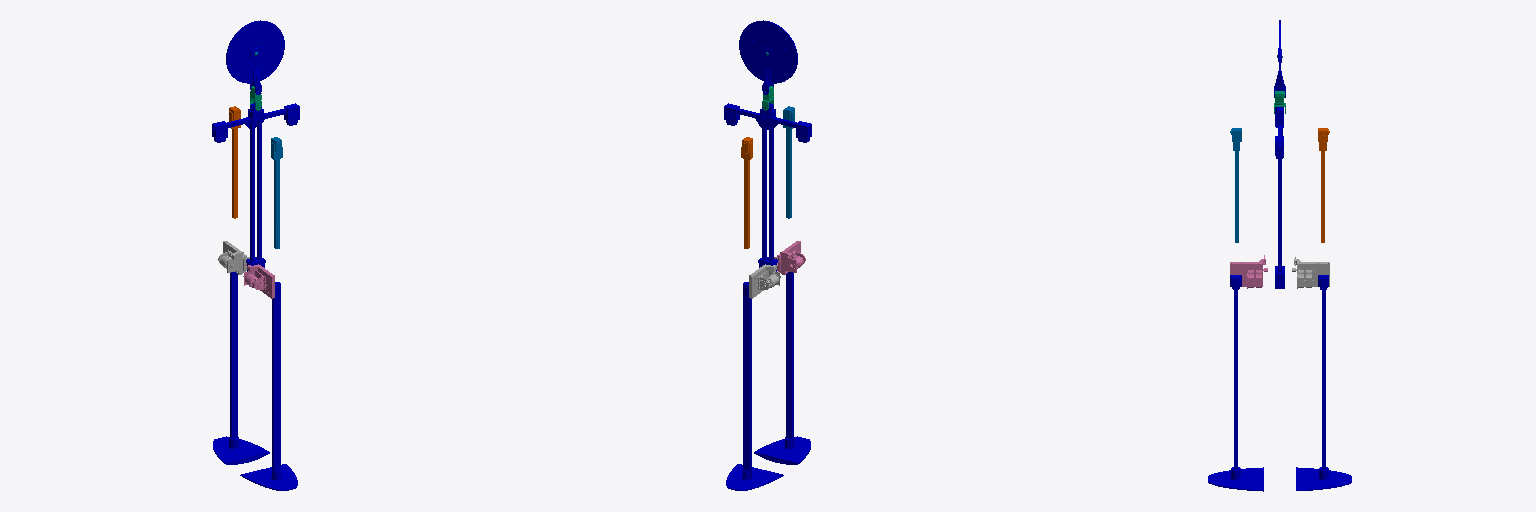
robot.urdf — robot:
<?xml version="1.0" ?>
<!-- Marcheur passif -->
<!-- This file comes from Aldebaran romeo.urdf file with slight modifications:               -->
<!--             - rename joint_base by waist (joint base name in sot is already joint_base) -->
<!--             - waist joint goes from base_link to body (and not base_link)                   -->
<!--             - inverse trunkYaw joint direction (now from body to base_link)                 -->
<!-- Aldebaran file comes from                                                               --> 

<robot name="robot"  xmlns:xacro="http://www.ros.org/wiki/xacro">

   <material name="blue">
      <color rgba="0 0 0.8 1"/>
   </material>

   <link name="world"/>

  <joint name="fixed" type="fixed">
    <parent link="world"/>
    <child link="base_link"/>
</joint>


<!-- virtual link with a virtual joint to make the root link -->
  <!--link name="virtual_link"/>
  <joint name="virtual_joint" type="fixed">
    <parent link="virtual_link"/>
    <child link="base_link"/>
  </joint-->



  <link name="base_link">
    <inertial>
      <mass value="1.635"/>
      <inertia ixx="86e-03" ixy="-39.84e-6" ixz="3.991e-4" iyy="83e-3" iyz="-38.29e-6" izz="4e-3"/>
      <origin rpy="0 0 0" xyz="0 0 0.17346"/>
    </inertial>
    <visual>
      <geometry>
        <mesh filename="package://yoyoman01_sot_description/meshes/BUSTE.stl" scale="0.001 0.001 0.001"/>
      </geometry>
    <origin rpy="0 0 -1.57075" xyz="0 0 0"/>
    <material name="blue"/>
    </visual>
    <collision>
      <geometry>
        <mesh filename="package://yoyoman01_sot_description/meshes/BUSTE.stl" scale="0.001 0.001 0.001"/>
      </geometry>
    <origin rpy="0 0 -1.57075" xyz="0 0 0"/>
    </collision>
  </link>




  <joint name="Neck" type="revolute">
    <parent link="base_link"/>
    <child link="NeckLink"/>
    <origin rpy="0 0 0" xyz="0 0 0.675"/>
    <axis xyz="0 1 0"/>
    <limit effort="1.5" lower="-0.5" upper="0.5" velocity="6.175333333"/>
  </joint>
  <link name="NeckLink">
    <inertial>
      <mass value="0.061"/>
      <inertia ixx="2.95e-5" ixy="-7.67e-9" ixz="-3.61e-9" iyy="2.53e-5" iyz="-3.05e-6" izz="1.09e-5"/>
      <origin rpy="0 0 0" xyz="0 0 0.03"/>
    </inertial>
    <visual>
      <geometry>
        <mesh filename="package://yoyoman01_sot_description/meshes/COU.stl" scale="0.001 0.001 0.001"/>
      </geometry>
    <origin rpy="0 0 1.57075" xyz="0 0 0"/>
    </visual>
    <collision>
      <geometry>
        <mesh filename="package://yoyoman01_sot_description/meshes/COU.stl" scale="0.001 0.001 0.001"/>
      </geometry>
    <origin rpy="0 0 1.57075" xyz="0 0 0"/>
    </collision>
  </link>
  
 <joint name="Head" type="revolute">
    <parent link="NeckLink"/>
    <child link="HeadLink"/>
    <origin rpy="0 0 0" xyz="0 0 0.064502"/>
    <axis xyz="0 1 0"/>
    <limit effort="1.5" lower="-0.5" upper="0.5" velocity="6.175333333"/>
  </joint>
  <link name="HeadLink">
    <inertial>
      <mass value="0.340"/>
      <inertia ixx="2e-3" ixy="-129.7e-9" ixz="5.391e-5" iyy="3e-3" iyz="-267.9e-9" izz="1e-3"/>
      <origin rpy="0 0 0" xyz="0 0 0.143385"/>
    </inertial>
    <visual>
      <geometry>
        <mesh filename="package://yoyoman01_sot_description/meshes/TETE.stl" scale="0.001 0.001 0.001"/>
      </geometry>
    <origin rpy="0 0 1.57075 " xyz="0 0 0"/>
    <material name="blue"/>
    </visual>
    <collision>
      <geometry>
        <mesh filename="package://yoyoman01_sot_description/meshes/TETE.stl" scale="0.001 0.001 0.001"/>
      </geometry>
    <origin rpy="0 0 1.57075 " xyz="0 0 0"/>
    </collision>
  </link>
  

  
<joint name="Rarm" type="revolute">
    <parent link="base_link"/>
    <child link="RArmLink"/>
    <origin rpy="0 0 0" xyz="0 -0.155 0.589901 "/>
    <axis xyz="0 1 0"/>
    <limit effort="4.1" lower="-3" upper="3" velocity="4.814666667"/>
  </joint>
<link name="RArmLink">
    <inertial>
      <mass value="0.172"/>
      <inertia ixx="3e-3" ixy="-2.011e-20" ixz="-3.61e-9" iyy="3e-3" iyz="3.05e-6" izz="2.475e-5"/>
      <origin rpy="0 0 0 " xyz="0 0 -0.10032"/>
    </inertial>
    <visual>
      <geometry>
        <mesh filename="package://yoyoman01_sot_description/meshes/BRAS.stl" scale="0.001 0.001 0.001"/>
      </geometry>
    <origin rpy="0 0 -1.57075" xyz="0 0 0"/>
    </visual>
    <collision>
      <geometry>
        <mesh filename="package://yoyoman01_sot_description/meshes/BRAS.stl" scale="0.001 0.001 0.001"/>
      </geometry>
    <origin rpy="0 0 -1.57075" xyz="0 0 0"/>
    </collision>
  </link>
  
<joint name="Larm" type="revolute">
    <parent link="base_link"/>
    <child link="LArmLink"/>
    <origin rpy="0 0 0" xyz="0 0.155 0.589901 "/>
    <axis xyz="0 1 0"/>
    <limit effort="4.1" lower="-3" upper="3" velocity="4.814666667"/>
  </joint>
<link name="LArmLink">
    <inertial>
      <mass value="0.172"/>
      <inertia ixx="3e-3" ixy="2.011e-20" ixz="-3.61e-9" iyy="3e-3" iyz="-3.05e-6" izz="2.475e-5"/>
      <origin rpy="0 0 0 " xyz="0 0 -0.10032"/>
    </inertial>
    <visual>
      <geometry>
        <mesh filename="package://yoyoman01_sot_description/meshes/BRAS.stl" scale="0.001 0.001 0.001"/>
      </geometry>
    <origin rpy="0 0 1.57075" xyz="0 0 0"/>
    </visual>
    <collision>
      <geometry>
        <mesh filename="package://yoyoman01_sot_description/meshes/BRAS.stl" scale="0.001 0.001 0.001"/>
      </geometry>
    <origin rpy="0 0 1.57075" xyz="0 0 0"/>
    </collision>
  </link>
  
  <joint name="RHip" type="revolute">
    <parent link="base_link"/>
    <child link="RHipLink"/>
    <origin rpy="0 0 0" xyz="0 -0.09 0"/>
    <axis xyz="0 1 0"/>
    <limit effort="6.672" lower="-3" upper="3" velocity="10"/>
  </joint>
  <link name="RHipLink">
    <inertial>
      <mass value="0.816"/>
      <inertia ixx="0.001" ixy="1.921e-4" ixz="-0.0001443" iyy="0.002" iyz="1.291e-4" izz="0.002"/>
      <origin rpy="0 0 0" xyz="0.0506 -0.0137 0.0101"/>
    </inertial>
    <visual>
      <geometry>
        <mesh filename="package://yoyoman01_sot_description/meshes/HANCHE_D.stl" scale="0.001 0.001 0.001"/>
      </geometry>
    <origin rpy="0 3.14 1.57075" xyz="0 0 0"/> 
    </visual>
    <collision>
      <geometry>
        <mesh filename="package://yoyoman01_sot_description/meshes/HANCHE_D.stl" scale="0.001 0.001 0.001"/>
      </geometry>
    <origin rpy="0 3.14 1.57075" xyz="0 0 0"/>
    </collision>
  </link>
  
  <joint name="LHip" type="revolute">
    <parent link="base_link"/>
    <child link="LHipLink"/>
    <origin rpy="0 0 0" xyz="0 0.09 0"/>
    <axis xyz="0 1 0"/>
    <limit effort="6.672" lower="-3" upper="3" velocity="10"/>
  </joint>
  <link name="LHipLink">
    <inertial>
      <mass value="0.816"/>
      <inertia ixx="0.001" ixy="-1.921e-4" ixz="-0.0001443" iyy="0.002" iyz="-1.291e-4" izz="0.002"/>
      <origin rpy="0 0 0" xyz="0.0506 0.0137 0.0101"/>
    </inertial>
    <visual>
      <geometry>
        <mesh filename="package://yoyoman01_sot_description/meshes/HANCHE_G.stl" scale="0.001 0.001 0.001"/>
      </geometry>
    <origin rpy="0 0 1.57075" xyz="0 0 0"/>
    </visual>
    <collision>
      <geometry>
        <mesh filename="package://yoyoman01_sot_description/meshes/HANCHE_G.stl" scale="0.001 0.001 0.001"/>
      </geometry>
    <origin rpy="0 0 1.57075" xyz="0 0 0"/>
    </collision>
  </link>
  
  <joint name="RKnee" type="fixed">
    <parent link="RHipLink"/>
    <child link="RKneeLink"/>
    <origin rpy="0 0 0" xyz="-0.021 -0.068 -0.01"/>
    <axis xyz="0 0 0"/>
    <limit effort="50" lower="0" upper="0.04" velocity="1"/>
  </joint>
  <link name="RKneeLink">
    <inertial>
      <mass value="0.839"/>
      <inertia ixx="80e-3" ixy="17.42e-6" ixz="-154.3e-6" iyy="80e-3" iyz="-3e-3" izz="2e-3"/>
      <origin rpy="0 0 0" xyz="0.01817 -0.01317 -0.557"/>
    </inertial>
    <visual>
      <geometry>
        <mesh filename="package://yoyoman01_sot_description/meshes/JAMBE_G.stl" scale="0.001 0.001 0.001"/>
      </geometry>
    <origin rpy="0 0 3.14" xyz="0 0 0"/>
    <material name="blue"/>
    </visual>
    <collision>
      <geometry>
        <mesh filename="package://yoyoman01_sot_description/meshes/JAMBE_G.stl" scale="0.001 0.001 0.001"/>
      </geometry>
    <origin rpy="0 0 3.14" xyz="0 0 0"/>
    </collision>
  </link> 
  
  <joint name="LKnee" type="fixed">
    <parent link="LHipLink"/>
    <child link="LKneeLink"/>
    <origin rpy="0 0 0" xyz="-0.021 0.068 -0.01"/>
    <axis xyz="0 0 0"/>
    <limit effort="50" lower="0" upper="0.04" velocity="1"/>
  </joint>
  <link name="LKneeLink">
    <inertial>
      <mass value="0.839"/>
      <inertia ixx="80e-3" ixy="-17.42e-6" ixz="-154.3e-6" iyy="80e-3" iyz="3e-3" izz="2e-3"/>
      <origin rpy="0 0 0" xyz="0.01817 0.01317 -0.557"/>
    </inertial>
    <visual>
      <geometry>
        <mesh filename="package://yoyoman01_sot_description/meshes/JAMBE_D.stl" scale="0.001 0.001 0.001"/>
      </geometry>
    <origin rpy="0 0 3.14" xyz="0 0 0"/>
    <material name="blue"/>
    </visual>
    <collision>
      <geometry>
        <mesh filename="package://yoyoman01_sot_description/meshes/JAMBE_D.stl" scale="0.001 0.001 0.001"/>
      </geometry>
    <origin rpy="0 0 3.14" xyz="0 0 0"/>
    </collision>
  </link>



<!-- **********Virtual points on the top of the foots ********** -->

  <joint name="RFoot" type="fixed">
    <parent link="RKneeLink"/>
    <child link="RFootLink"/>
    <origin rpy="0 0 0" xyz="0.0187 0 -0.7775"/>
    <axis xyz="0 0 0"/>
  </joint>
    <link name="RFootLink">
  </link>
  
  <joint name="LFoot" type="fixed">
    <parent link="LKneeLink"/>
    <child link="LFootLink"/>
    <origin rpy="0 0 0" xyz="0.0187 0 -0.7775"/>
    <axis xyz="0 0 0"/>
  </joint>
    <link name="LFootLink">
  </link>

<!-- IMU -->
<link name="imu_link">
  <inertial>
    <mass value="0.00"/>
    <origin rpy="0 0 0" xyz="0 0 0"/>
    <inertia ixx="0.000" ixy="0" ixz="0" iyy="0.000" iyz="0" izz="0.000"/>
  </inertial>

  <visual>
    <origin rpy="0 0 0" xyz="0 0 0"/>
    <geometry>
      <sphere radius="0.01"/>
    </geometry>
  </visual>

  <collision>
    <origin rpy="0 0 0" xyz="0 0 0"/>
    <geometry>
      <sphere radius="0.01"/>
    </geometry>
  </collision>
</link>

<!-- IMU Joint -->
  <joint name="imu_joint" type="fixed">
    <axis xyz="0 0 0"/> <!-- 0 1 0 -->
    <origin xyz="0 0 0.15" rpy="0 0 0"/>
    <parent link="HeadLink"/>
    <child link="imu_link"/>
  </joint>



<!--
**********Transmissions**********
-->


  <transmission name="tranHead">
    <type>transmission_interface/SimpleTransmission</type>
    <joint name="Head">
      <hardwareInterface>hardware_interface/PositionJointInterface</hardwareInterface>
    </joint>
    <actuator name="motorHead">
      <hardwareInterface>hardware_interface/PositionJointInterface</hardwareInterface>

      <mechanicalReduction>1</mechanicalReduction>
    </actuator>
  </transmission>

  <transmission name="tranNeck">
    <type>transmission_interface/SimpleTransmission</type>
    <joint name="Neck">
      <hardwareInterface>hardware_interface/PositionJointInterface</hardwareInterface>
    </joint>
    <actuator name="motorNeck">
      <hardwareInterface>hardware_interface/PositionJointInterface</hardwareInterface>
      <mechanicalReduction>1</mechanicalReduction>
    </actuator>
  </transmission>

  <transmission name="tranRarm">
    <type>transmission_interface/SimpleTransmission</type>
    <joint name="Rarm">
      <hardwareInterface>hardware_interface/PositionJointInterface</hardwareInterface>
    </joint>
    <actuator name="motorRarm">
      <hardwareInterface>hardware_interface/PositionJointInterface</hardwareInterface>
      <mechanicalReduction>1</mechanicalReduction>
    </actuator>
  </transmission>

  <transmission name="tranLarm">
    <type>transmission_interface/SimpleTransmission</type>
    <joint name="Larm">
      <hardwareInterface>hardware_interface/PositionJointInterface</hardwareInterface>
    </joint>
    <actuator name="motorLarm">
      <hardwareInterface>hardware_interface/PositionJointInterface</hardwareInterface>
      <mechanicalReduction>1</mechanicalReduction>
    </actuator>
  </transmission>

  <transmission name="tranRHip">
    <type>transmission_interface/SimpleTransmission</type>
    <joint name="RHip">
      <hardwareInterface>hardware_interface/PositionJointInterface</hardwareInterface>
    </joint>
    <actuator name="motorRHip">
      <hardwareInterface>hardware_interface/PositionJointInterface</hardwareInterface>
      <mechanicalReduction>1</mechanicalReduction>
    </actuator>
  </transmission>

  <transmission name="tranLHip">
    <type>transmission_interface/SimpleTransmission</type>
    <joint name="LHip">
      <hardwareInterface>hardware_interface/PositionJointInterface</hardwareInterface>
    </joint>
    <actuator name="motorLHip">
      <hardwareInterface>hardware_interface/PositionJointInterface</hardwareInterface>
      <mechanicalReduction>1</mechanicalReduction>
    </actuator>
  </transmission>
  

<gazebo>
    <plugin name="gazebo_ros_control" filename="libgazebo_ros_control.so">
      <!--robotNamespace>/yoyoman01</robotNamespace-->

       <ns/>
      <robotSimType>pal_hardware_gazebo/PalHardwareGazebo</robotSimType>
      <robotNamespace/>
      <controlPeriod>0.001</controlPeriod>
    </plugin>
    <selfCollide>true</selfCollide>
    <gravity>true</gravity>
<!-- IMU-->



<!--
      <plugin name="imu_plugin" filename="libgazebo_ros_imu.so">
            <alwaysOn>true</alwaysOn>
            <updateRate>10</updateRate>
            <bodyName>imu_link</bodyName>
            <topicName>/imu_ros</topicName>
            <serviceName>/imu/calibrate</serviceName>
            <accelOffset>0.0 0.0 0.0</accelOffset>
            <accelDrift>0.0 0.0 0.0</accelDrift>
            <accelDriftFrequency>0.0 0.0 0.0</accelDriftFrequency>
            <accelGaussianNoise>0.0 0.0 0.0</accelGaussianNoise>
            <rateOffset>0.0 0.0 0.0</rateOffset>
            <rateDrift>0.0 0.0 0.0</rateDrift>
            <rateDriftFrequency>0.0 0.0 0.0</rateDriftFrequency>
            <rateGaussianNoise>0.0 0.0 0.0</rateGaussianNoise>
            <headingOffset>0.0</headingOffset>
            <headingDrift>0.0</headingDrift>
            <headingDriftFrequency>0.0</headingDriftFrequency>
            <headingGaussianNoise>0.0</headingGaussianNoise>
            <rpyOffset>0.0 0.0 0.0</rpyOffset>
            <xyzOffset>0.0 0.0 0.0</xyzOffset>
            <gaussianNoise>0.0</gaussianNoise>
        </plugin>
-->
    <plugin name="imu_link_controller" filename="libhector_gazebo_ros_imu.so">
      <updateRate>100.0</updateRate>
      <bodyName>imu_link</bodyName>
      <topicName>COMAN/raw_imu</topicName>
      <rpyOffsets>0 0 0</rpyOffsets> 
      <gaussianNoise>0</gaussianNoise>  
      <accelDrift>0.5 0.5 0.5</accelDrift>
      <accelGaussianNoise>0.35 0.35 0.3</accelGaussianNoise>
      <rateDrift>0.1 0.1 0.1</rateDrift>
      <rateGaussianNoise>0.05 0.05 0.015</rateGaussianNoise>
      <headingDrift>0.1</headingDrift>
      <headingGaussianNoise>0.05</headingGaussianNoise>
    </plugin>

  </gazebo>



  <gazebo reference="imu_link">


    <gravity>true</gravity>
    <sensor name="imu_sensor" type="imu">
      <always_on>true</always_on>
      <update_rate>1000.0</update_rate>
      <visualize>true</visualize>
      <topic>__default_topic__</topic>
      <plugin filename="libgazebo_ros_imu_sensor.so" name="imu_plugin">
        <topicName>imu_gazebo</topicName>
        <bodyName>imu_link</bodyName>
        <updateRateHZ>1000.0</updateRateHZ>
        <gaussianNoise>0.0</gaussianNoise>
        <xyzOffset>0 0 0</xyzOffset>
        <rpyOffset>0 0 0</rpyOffset>
        <frameName>imu_link</frameName>
      </plugin>
      <pose>0 0 0 0 0 0</pose>
    </sensor>
  </gazebo>

		<!-- Imu definition required for DLS hardware interface of ros control -->
		<gazebo reference="imu_link">
			<sensor name="imu_sensor" type="imu">
				<always_on>1</always_on>
				<update_rate>10</update_rate>
				<imu>
					<noise>
						<type>gaussian</type>
						<rate>
							<mean>0</mean>
							<stddev>0</stddev>
							<bias_mean>0</bias_mean>
							<bias_stddev>0</bias_stddev>
						</rate>
						<accel>
							<mean>0</mean>
							<stddev>0</stddev>
							<bias_mean>0</bias_mean>
							<bias_stddev>0</bias_stddev>
						</accel>
					</noise>
				</imu>
			</sensor>
               </gazebo>


</robot>

--- Facts derived from the render (not from the file) ---
Views: 3 orthographic renders of the robot side by side, from view 1: azimuth 30°, elevation 25°; view 2: azimuth 150°, elevation 25°; view 3: azimuth 270°, elevation 25°.
Robot: robot — 13 links, 12 joints (6 revolute, 6 fixed); root link world; default pose: all joints at 0.
Links seen in each view (by area): view 1: HeadLink, base_link, RKneeLink, LKneeLink, RArmLink, LArmLink, RHipLink, LHipLink; view 2: HeadLink, base_link, LKneeLink, RKneeLink, LArmLink, RArmLink, LHipLink, RHipLink; view 3: RKneeLink, LKneeLink, base_link, LHipLink, RHipLink, LArmLink, RArmLink.
Link boxes in pixels (x1,y1,x2,y2): HeadLink: [226, 20, 284, 94]; base_link: [212, 103, 299, 271]; RKneeLink: [240, 282, 297, 490]; LKneeLink: [213, 272, 269, 464]; RArmLink: [271, 137, 282, 248]; LArmLink: [229, 106, 240, 218]; RHipLink: [243, 264, 274, 298]; LHipLink: [218, 241, 249, 274]; HeadLink: [739, 20, 797, 94]; base_link: [724, 103, 811, 271]; LKneeLink: [726, 282, 783, 490]; RKneeLink: [754, 272, 810, 464]; LArmLink: [741, 137, 752, 248]; RArmLink: [783, 106, 794, 218]; LHipLink: [749, 264, 780, 298]; RHipLink: [774, 241, 805, 274]; RKneeLink: [1208, 275, 1263, 491]; LKneeLink: [1296, 275, 1351, 490]; base_link: [1275, 107, 1284, 288]; LHipLink: [1292, 257, 1329, 288]; RHipLink: [1230, 255, 1267, 288]; LArmLink: [1318, 128, 1329, 242]; RArmLink: [1230, 128, 1241, 242].
Size in the robot's own frame: 0.3601 by 0.5161 by 1.83 metres.
Meshes: 8 distinct files referenced, 9 mesh visuals loaded (8 binary STL).
